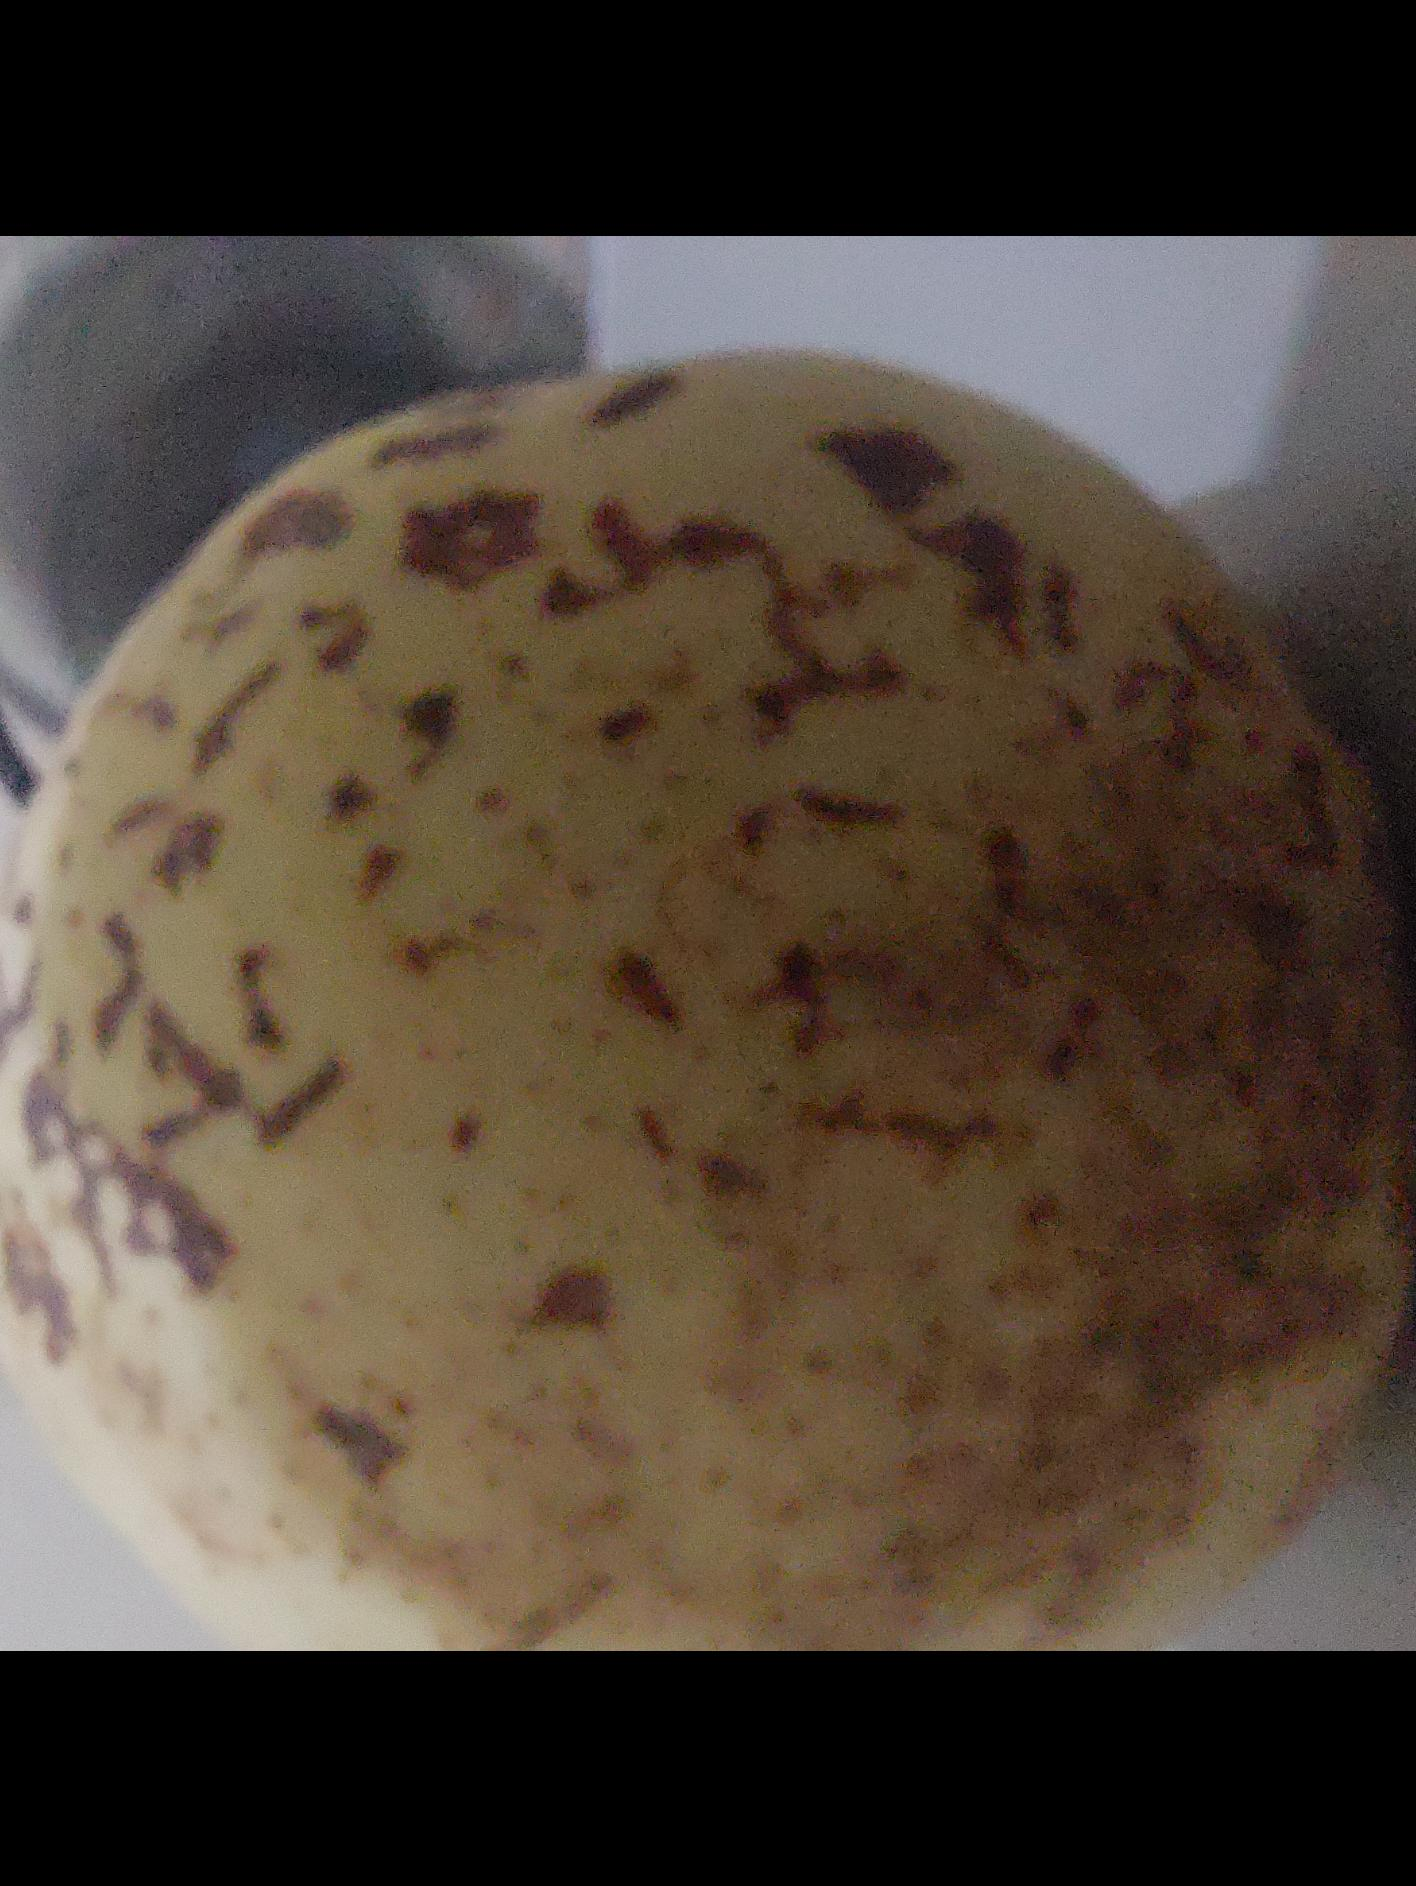Bad Pear: (0, 327, 1416, 1651)
